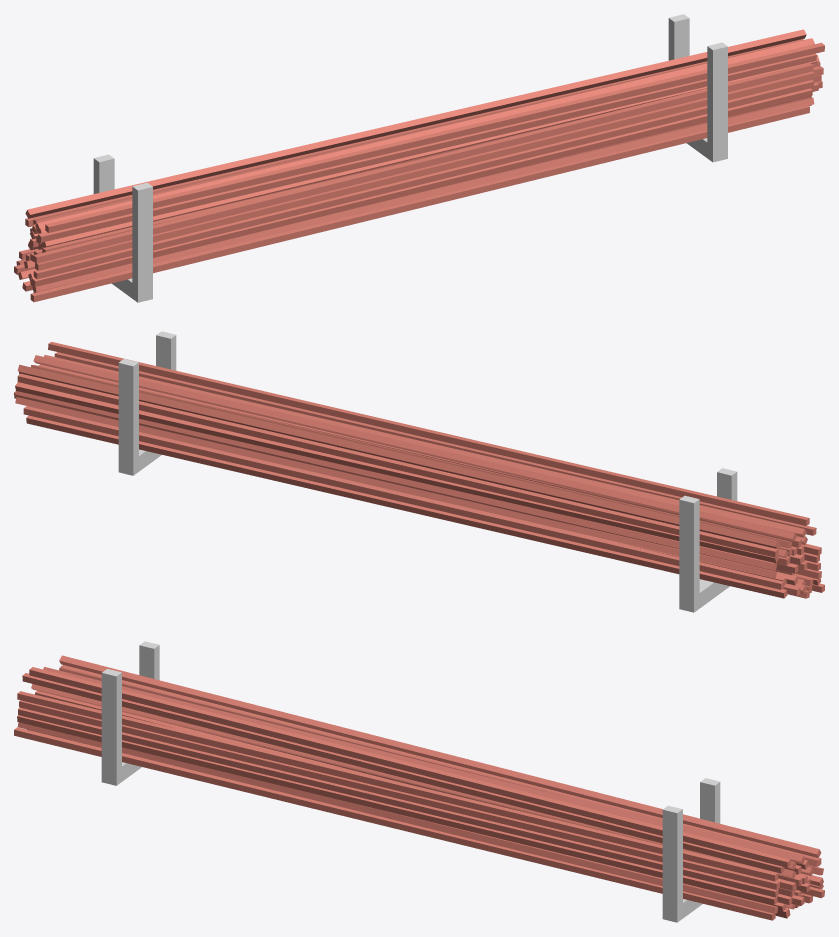
File: ConstructionSiteBars.fbx
3 views of the same model, one above another, from view 1: azimuth 30°, elevation 25°; view 2: azimuth 150°, elevation 25°; view 3: azimuth 330°, elevation 25° (orthographic). The views are drawn at different scales.
Visible parts, largest first — view 1: Cube.002; view 2: Cube.002; view 3: Cube.002.
Part boxes in pixels (<box>): Cube.002: <box>14,14,824,302</box>; Cube.002: <box>14,331,824,612</box>; Cube.002: <box>14,641,824,922</box>.
Size of the model in its own units: 25.4 by 3.37 by 2.41.
